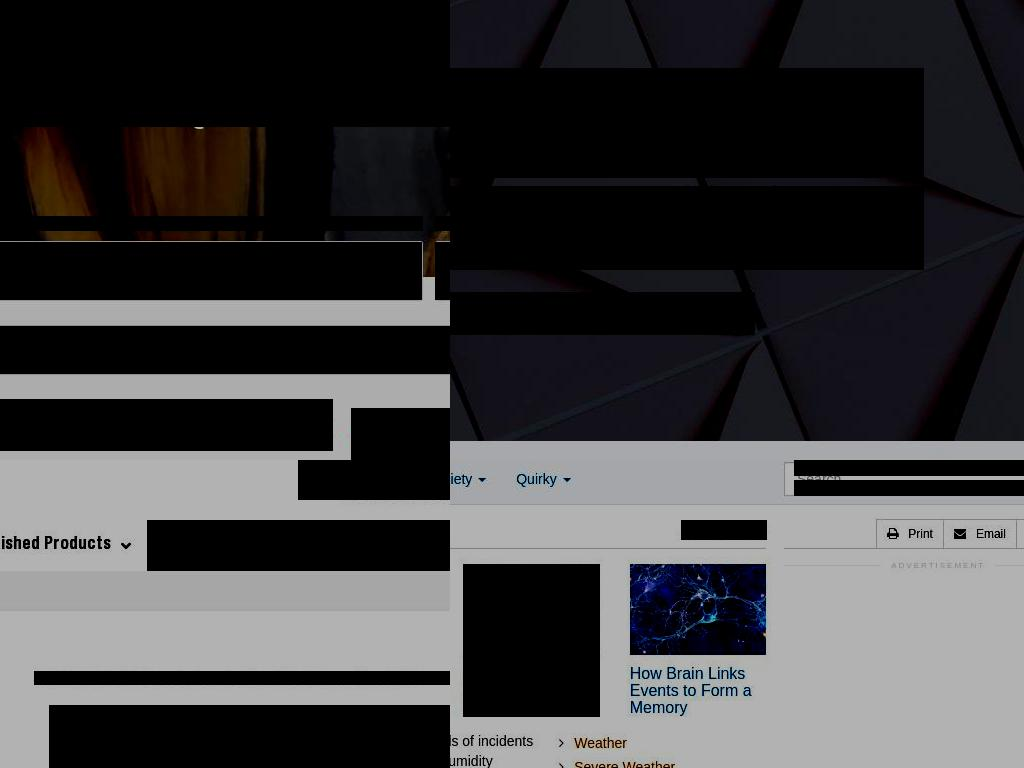button: (629, 564, 767, 717), (463, 564, 600, 717), (62, 326, 363, 374), (450, 292, 755, 335), (147, 520, 307, 571), (0, 520, 148, 571), (306, 520, 424, 571), (363, 326, 450, 374), (501, 460, 586, 504), (0, 326, 62, 374), (450, 460, 502, 504), (942, 519, 1017, 549), (876, 519, 944, 549), (423, 520, 450, 571)
field: (0, 242, 422, 300), (784, 462, 1024, 496)
heading: (0, 0, 450, 127), (450, 68, 924, 178), (0, 399, 333, 451), (629, 665, 767, 717), (463, 665, 600, 717), (34, 671, 450, 685)
image: (0, 0, 450, 277), (629, 564, 767, 656), (463, 564, 600, 656), (298, 460, 450, 500)
label: (0, 216, 423, 231)
link: (351, 408, 450, 460), (794, 460, 1024, 476), (794, 480, 1024, 496), (574, 735, 628, 752), (574, 759, 676, 768)
text: (0, 0, 450, 277), (784, 579, 1024, 768), (450, 186, 924, 270), (49, 705, 450, 768), (0, 537, 111, 554), (164, 537, 270, 554), (681, 520, 767, 540), (323, 537, 387, 554), (881, 560, 996, 569), (516, 471, 561, 487), (975, 527, 1006, 541), (450, 471, 477, 487), (908, 527, 934, 541), (440, 537, 450, 554)
